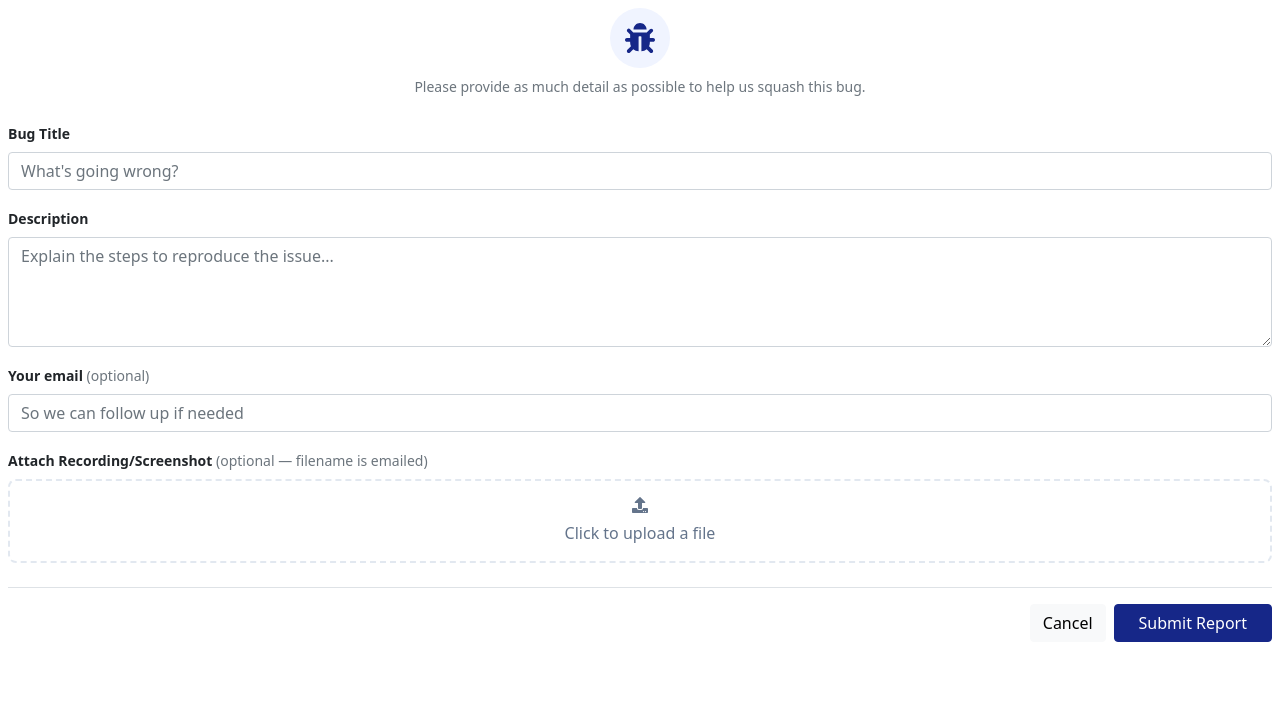
Scenario: BugReportForm › shows an error when submission fails
Type "Crash" into the field labelled "Bug Title" at coordinates (640, 171), box top-left (8, 152), bottom-right (1272, 190)
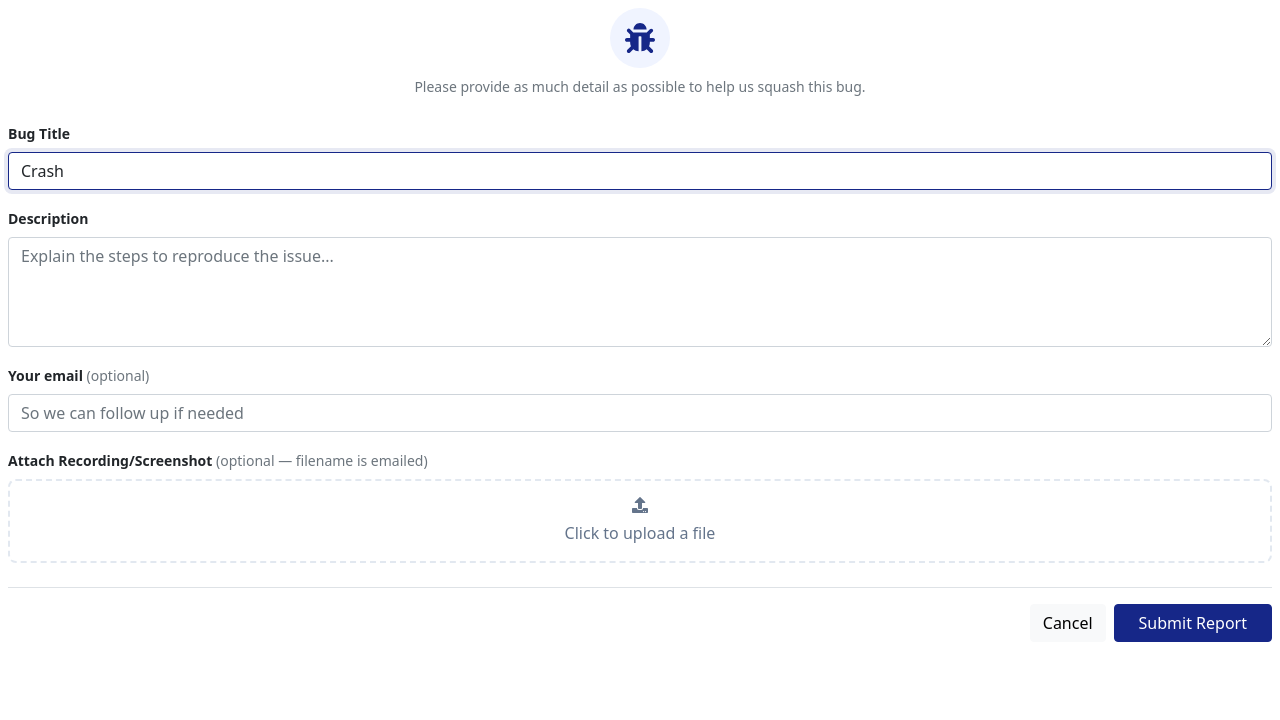
Type "Details here" into the text box labelled "Description" at coordinates (640, 292), box top-left (8, 237), bottom-right (1272, 347)
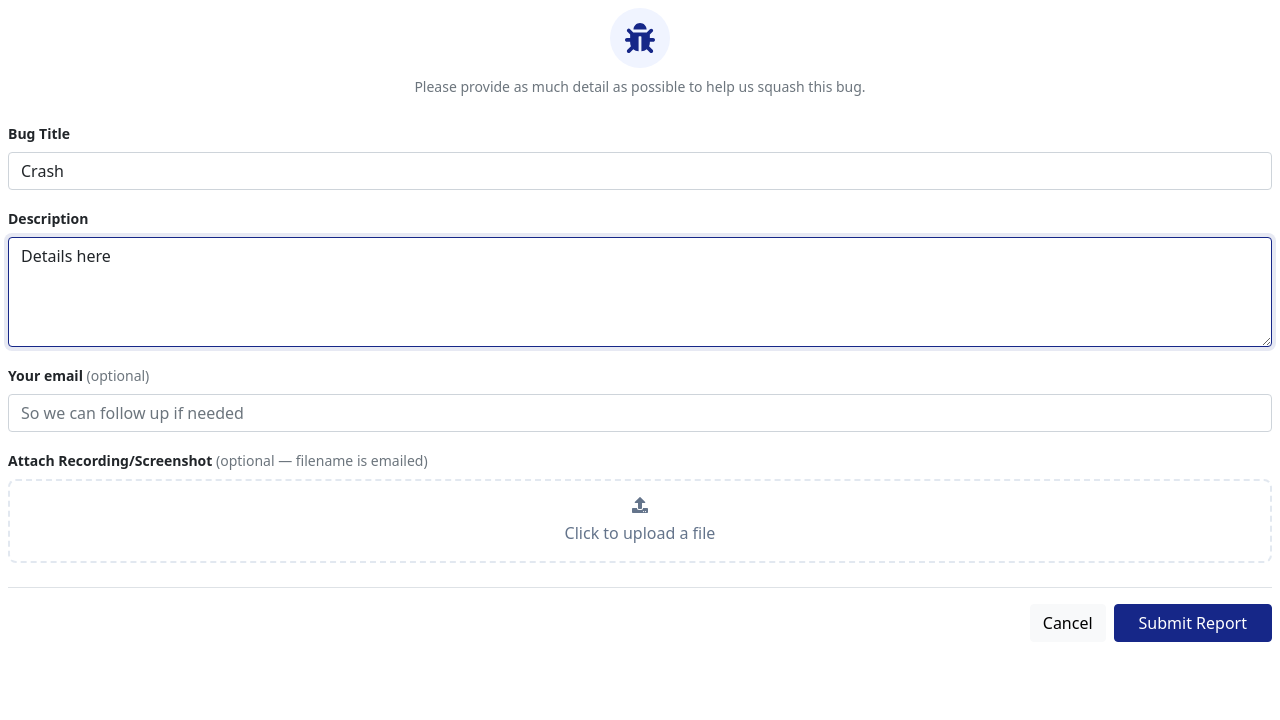
Click the button "Submit Report" at coordinates (1193, 623), box top-left (1114, 604), bottom-right (1272, 642)
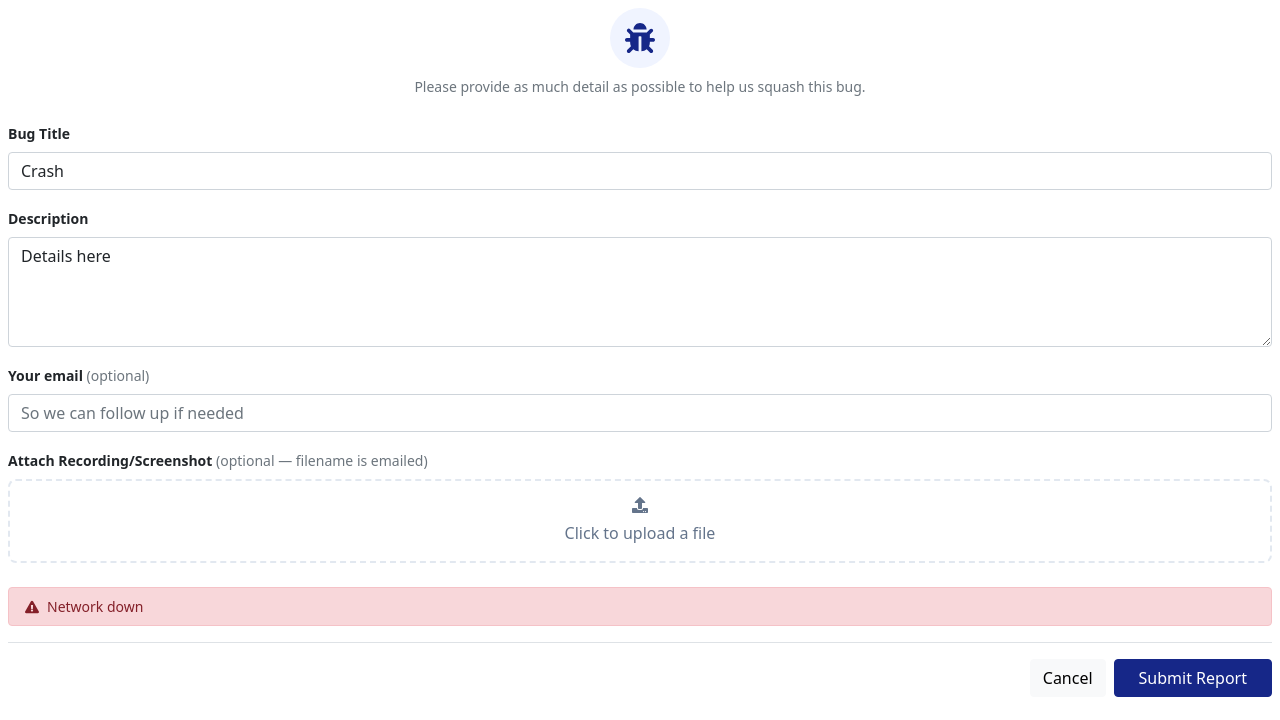
Result: the message reads "Network down" at top-left (47, 597), bottom-right (143, 616)
